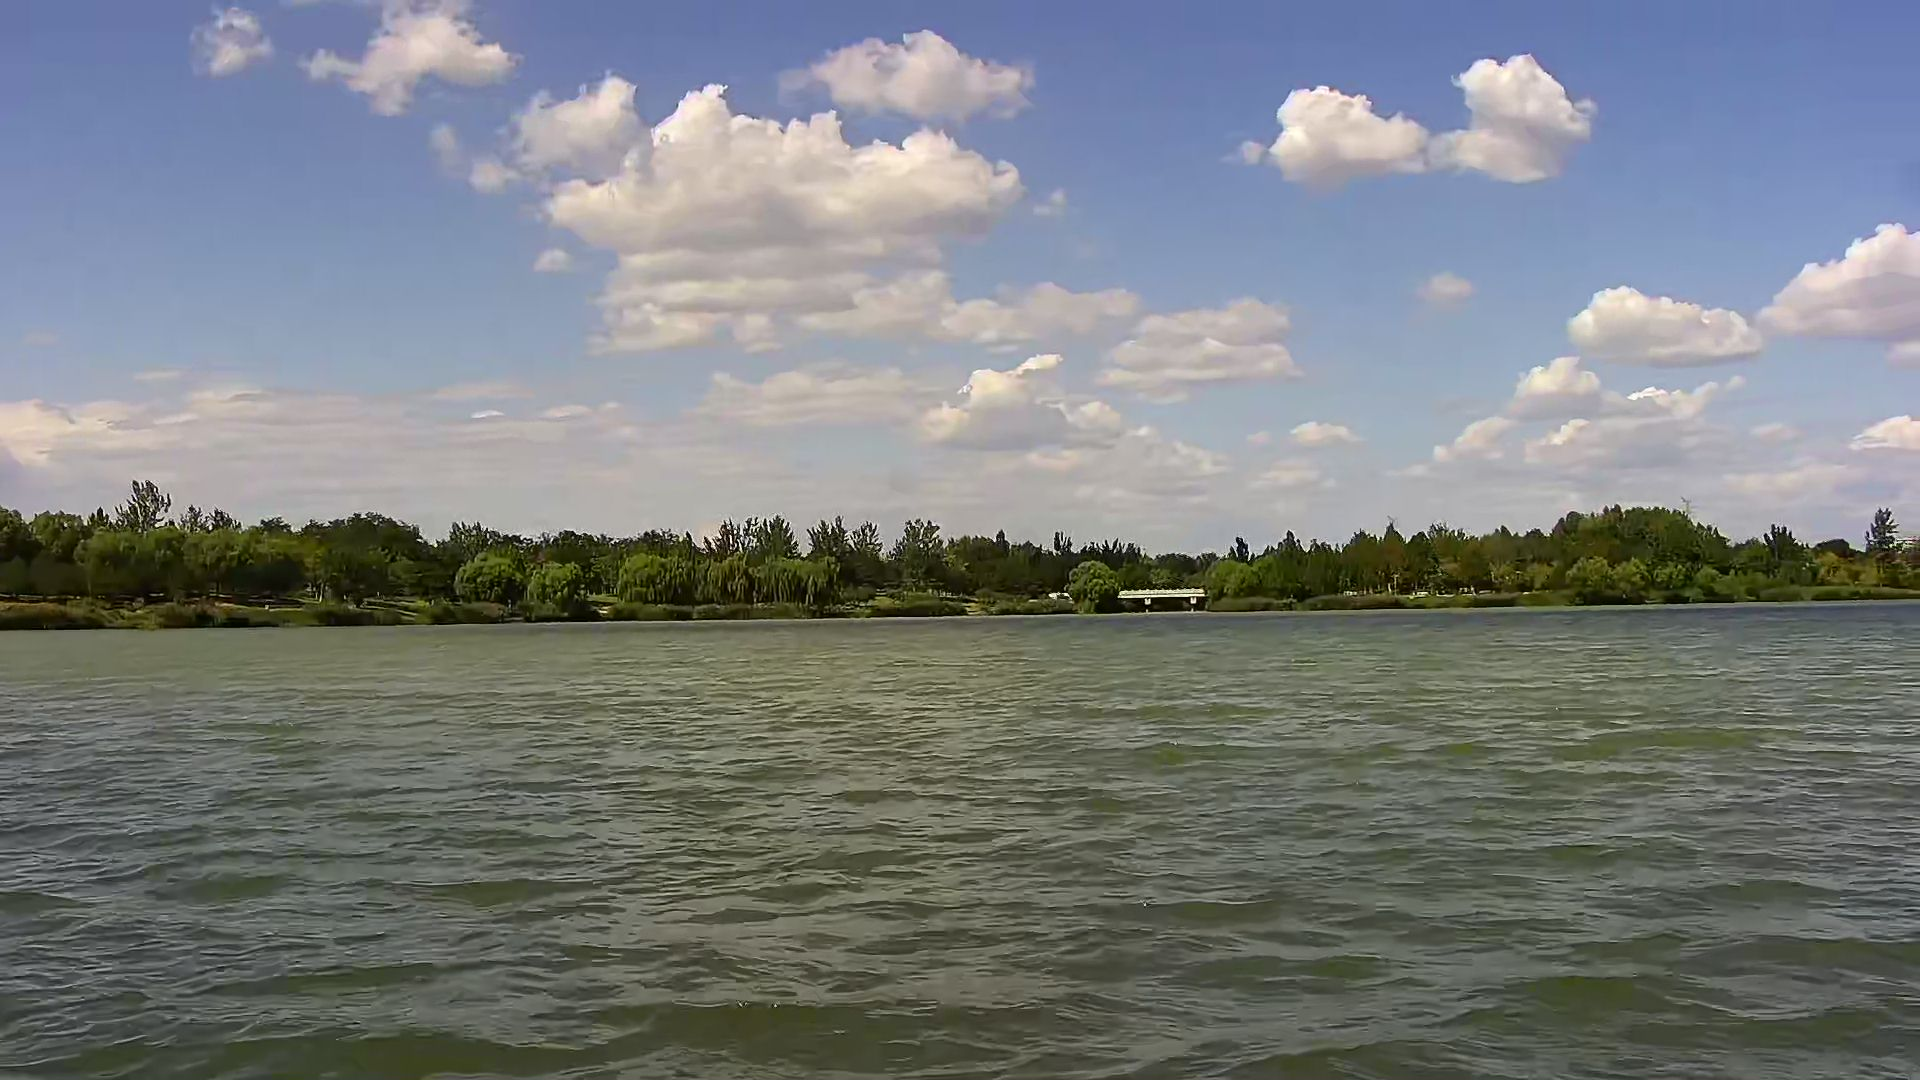bridge: (1118, 585, 1207, 615)
